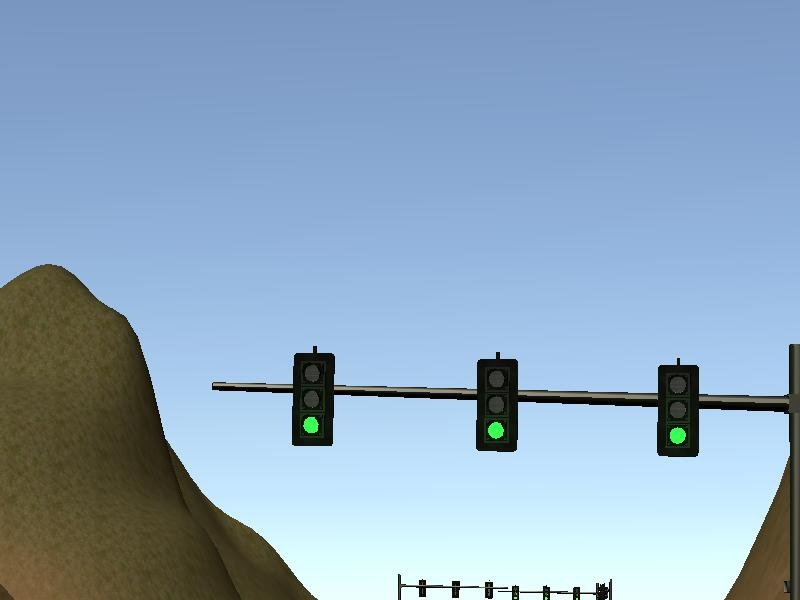GREEN: (289, 350, 337, 448), (654, 362, 703, 457), (475, 355, 522, 453)
